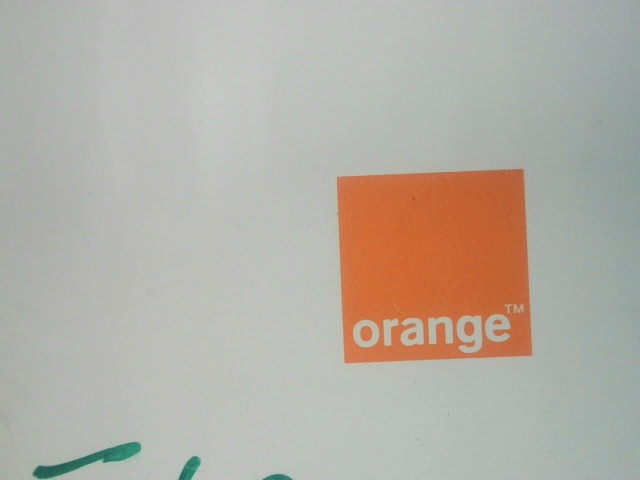AR_Orange: (322, 162, 535, 365)
